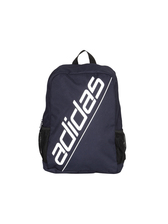bag: (33, 47, 133, 179)
